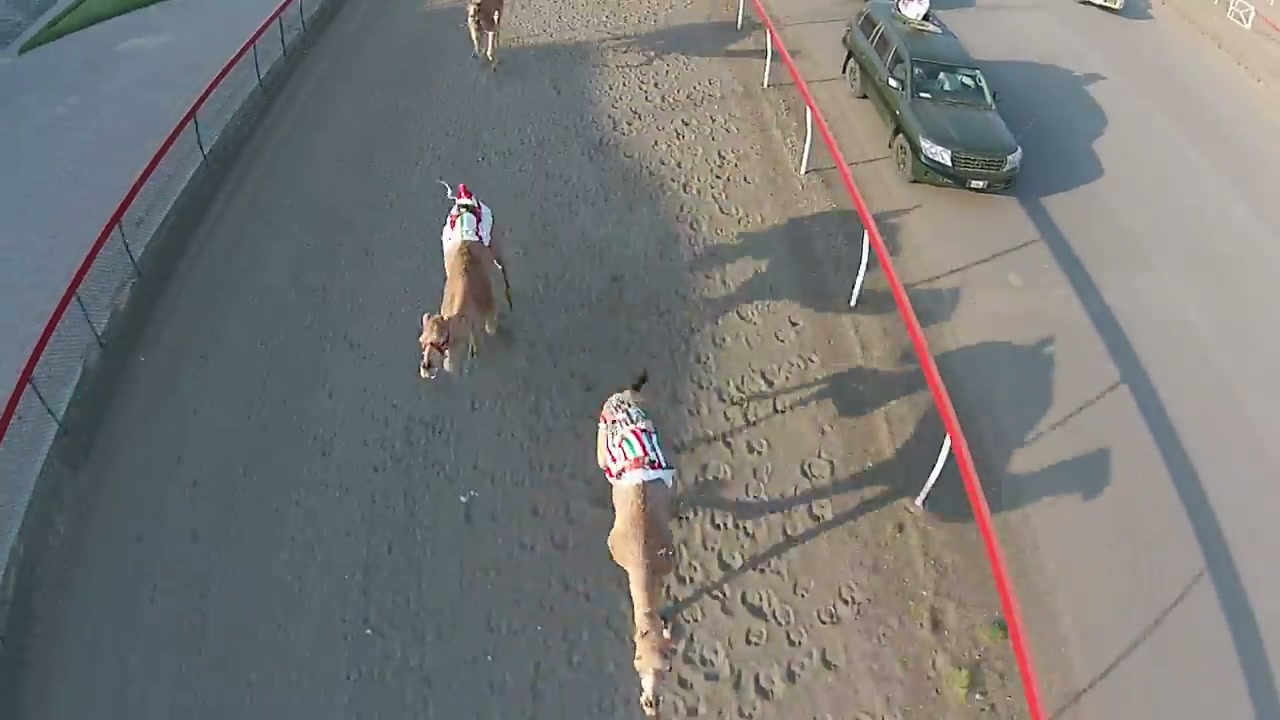animal_footprint: (602, 104, 844, 709)
